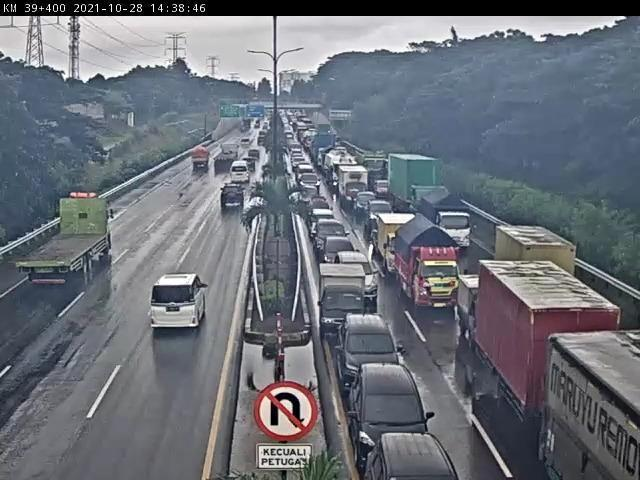bus: (230, 163, 248, 185)
car: (350, 366, 437, 465), (336, 315, 400, 399), (365, 434, 462, 480), (149, 272, 211, 331), (337, 253, 382, 303), (321, 237, 362, 278), (313, 220, 351, 259), (219, 183, 247, 216), (368, 200, 396, 232), (311, 208, 336, 238), (357, 193, 378, 218)
truck: (480, 260, 627, 447), (17, 192, 118, 291), (498, 226, 581, 308), (395, 217, 464, 314), (460, 275, 523, 352), (318, 262, 370, 338), (421, 189, 474, 254), (389, 156, 439, 215), (378, 213, 421, 278), (340, 166, 370, 208), (214, 140, 242, 174), (190, 146, 212, 174)
